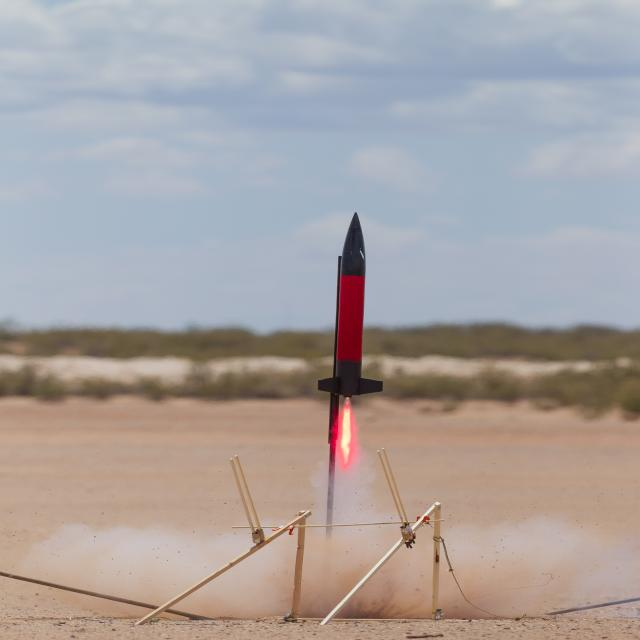Rocket: (316, 211, 386, 399)
